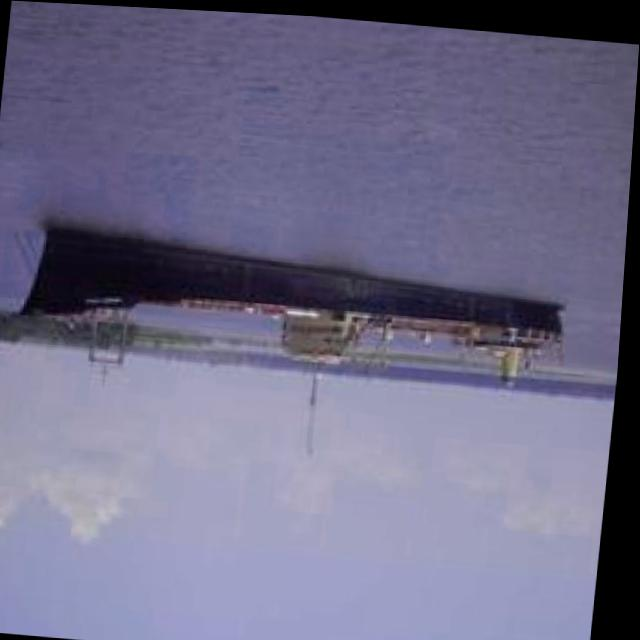ship2: (23, 226, 571, 450)
